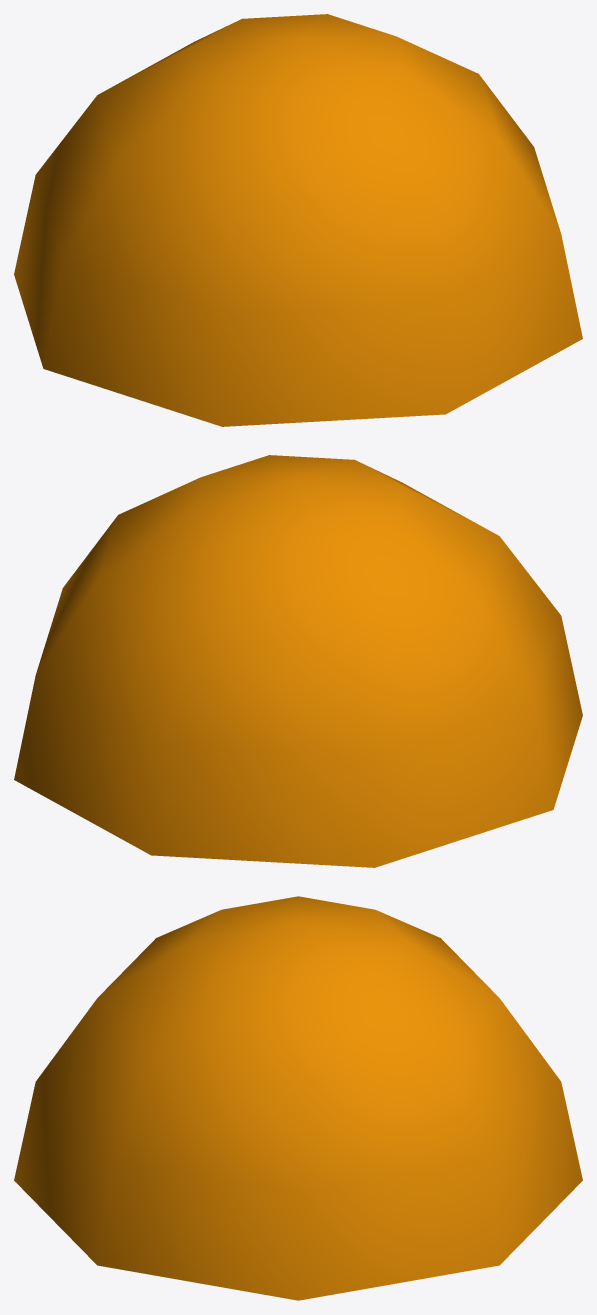
Rendered from LavaPit01_bubble.fbx.
The picture shows the model from 3 angles, top to bottom: view 1: azimuth 30°, elevation 25°; view 2: azimuth 150°, elevation 25°; view 3: azimuth 270°, elevation 25°; orthographic projection. The views are drawn at different scales.
Visible parts, largest first — view 1: Bubble_01; view 2: Bubble_01; view 3: Bubble_01.
Boxes of the visible parts, box(x1,y1,x2,y2) form: Bubble_01: box(14, 14, 582, 426); Bubble_01: box(14, 455, 582, 867); Bubble_01: box(14, 896, 582, 1300).
Bounding box in the file's own units: 0.02 × 0.01 × 0.02.
